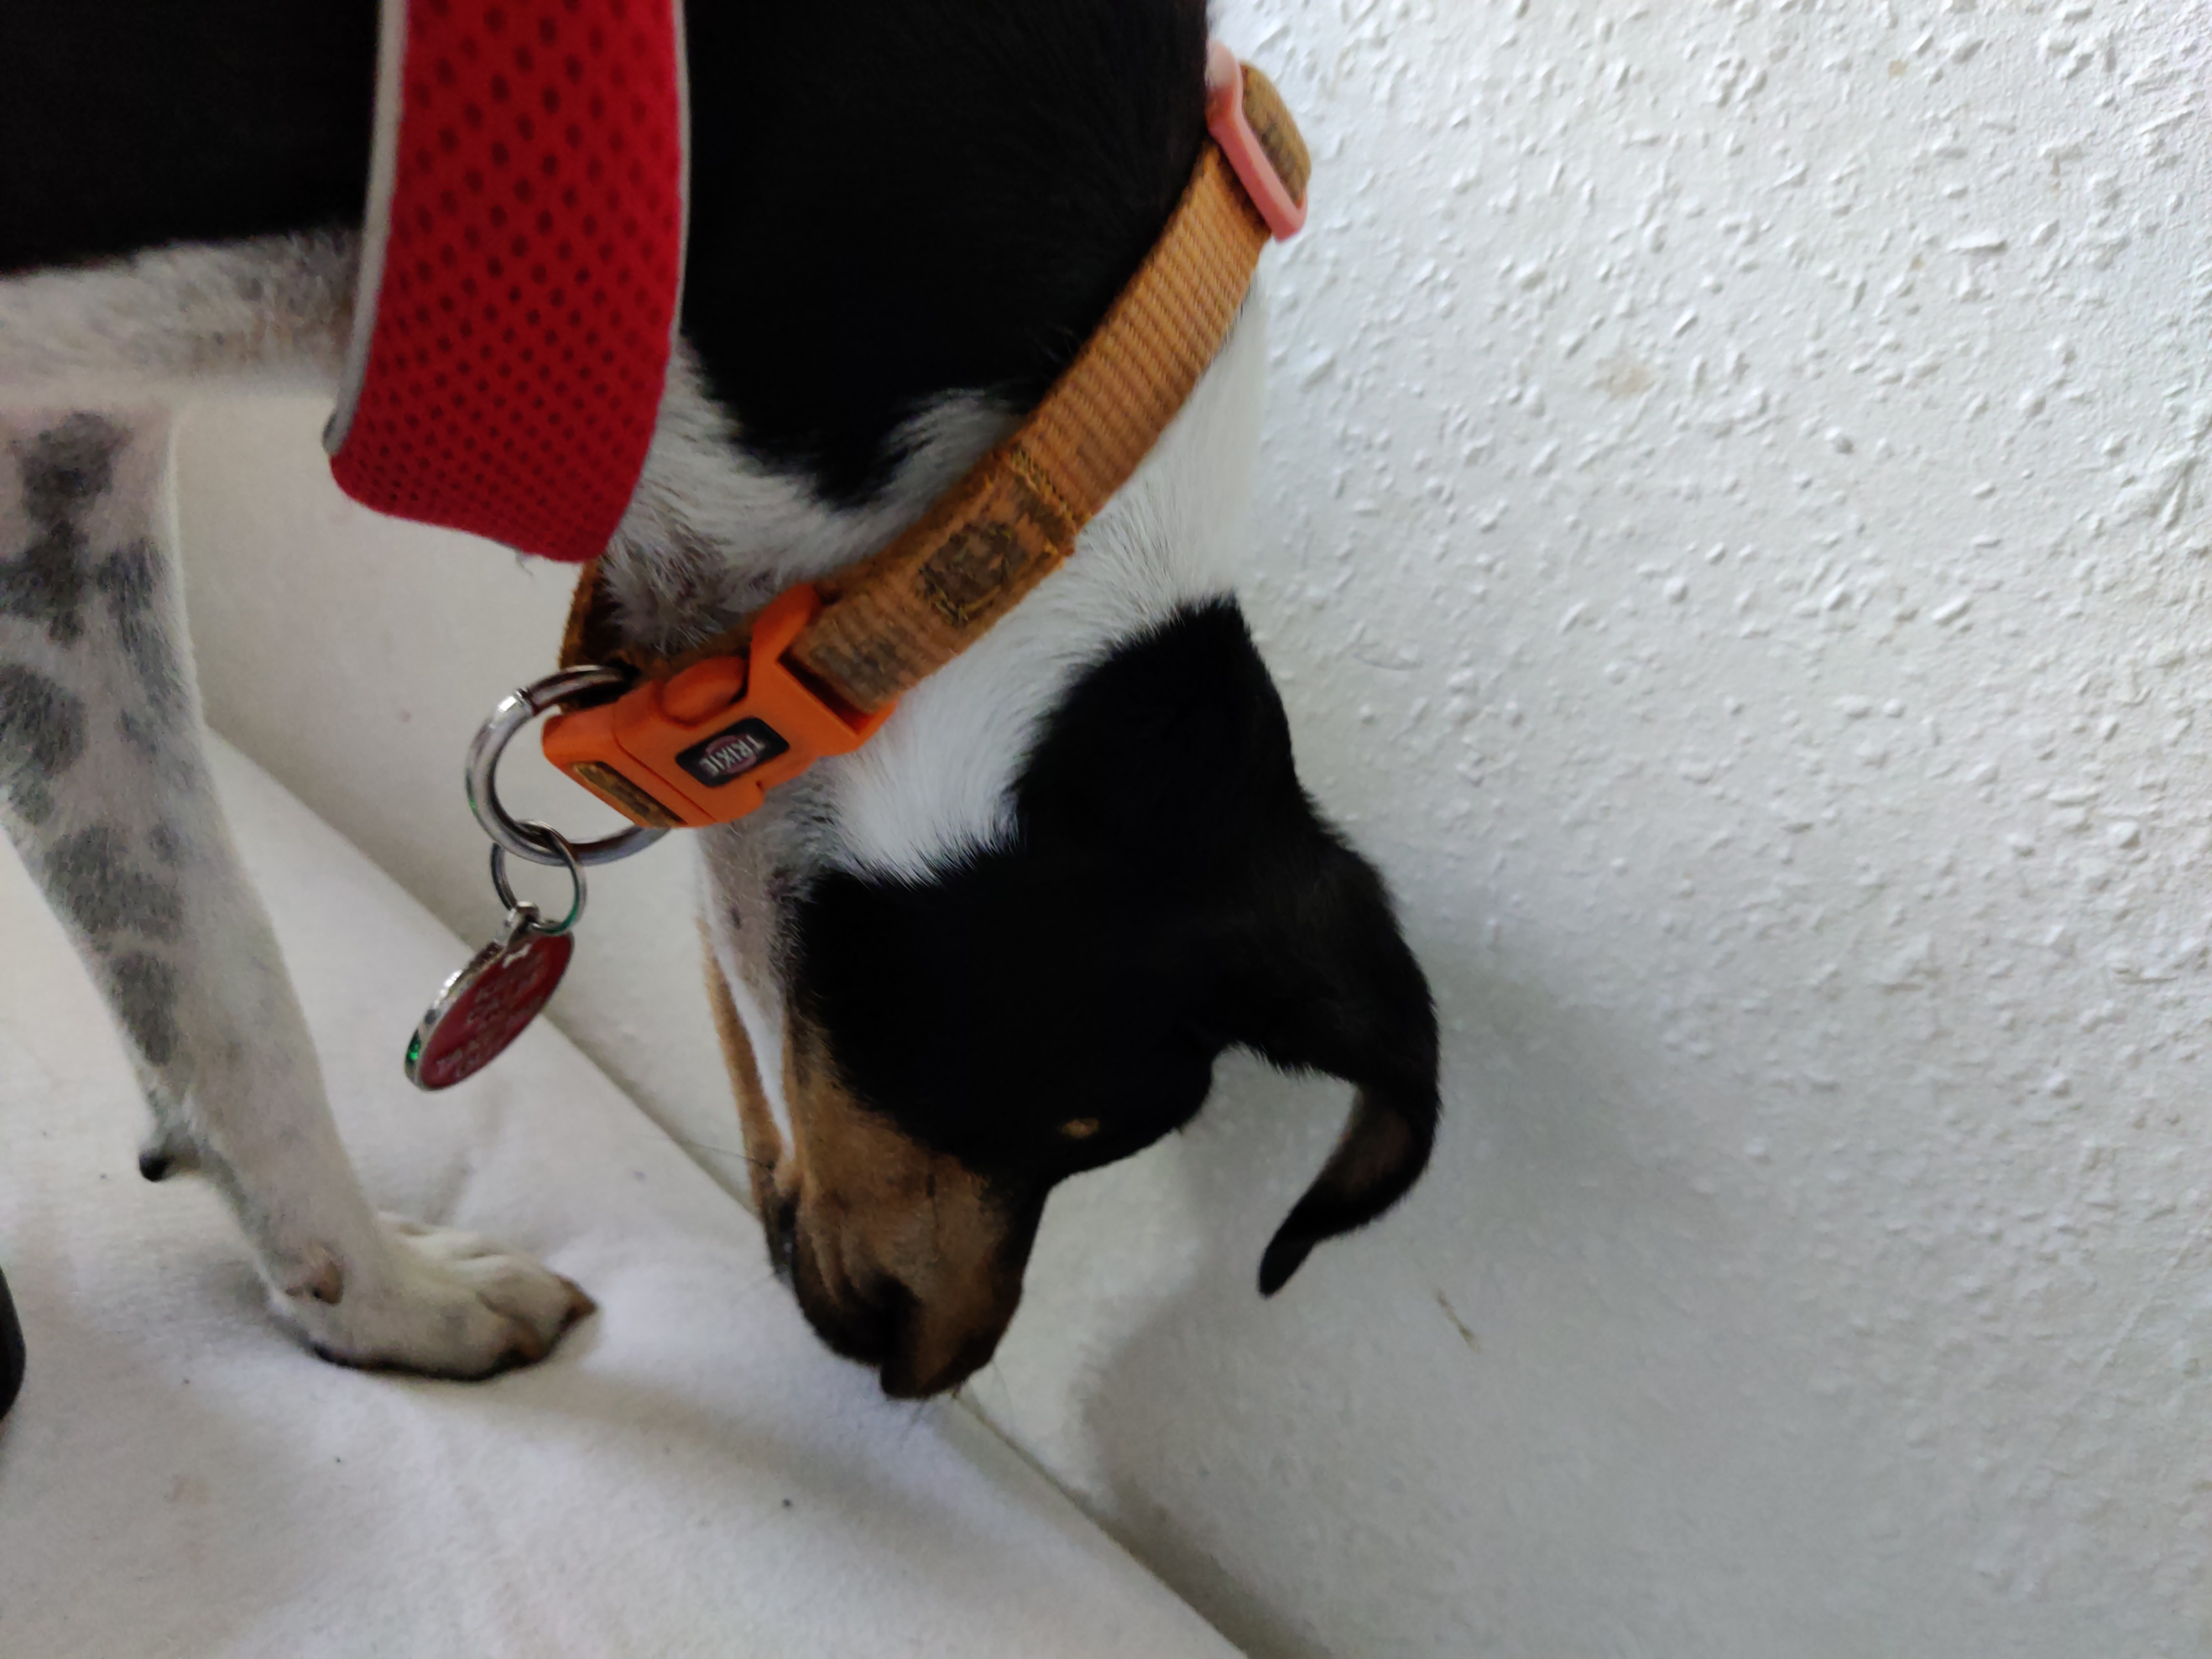Dog: (0, 0, 1456, 1443)
